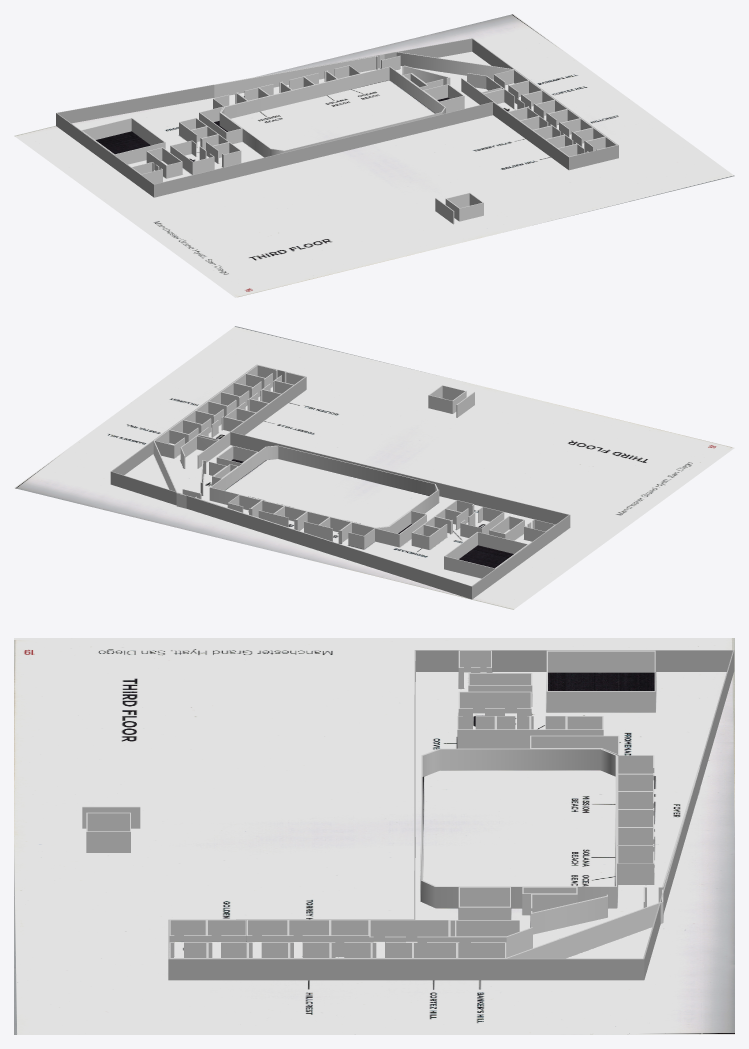
The model's file is ThirdLevel.fbx.
The picture shows the model from 3 angles, top to bottom: view 1: azimuth 30°, elevation 25°; view 2: azimuth 150°, elevation 25°; view 3: azimuth 270°, elevation 25°; orthographic projection. The views are drawn at different scales.
Visible parts, largest first — view 1: Plane, outline, room_blank, wall2, room_black4, wall1, room_elevator2, room_black3, room_base, room_unknown2_, room_escalator1, room_black2 (+3 smaller); view 2: Plane, outline, room_blank, room_black4, room_black3, room_unknown2_, room_elevator2, room_base, room_C3, room_unknown1, room_escalator1, room_A7 (+4 smaller); view 3: Plane, outline, room_blank, room_black4, wall1, room_bathroom1, room_unknown2_, room_elevator2, room_elevator1, room_base, room_black2, room_unknown3 (+18 smaller).
Part boxes in pixels (x1,y1,x2,y2): Plane: [14, 14, 734, 297]; outline: [56, 38, 618, 197]; room_blank: [221, 66, 445, 157]; wall2: [214, 56, 376, 97]; room_black4: [81, 118, 165, 164]; wall1: [395, 51, 513, 79]; room_elevator2: [170, 140, 214, 174]; room_black3: [199, 106, 242, 143]; room_base: [445, 192, 483, 221]; room_unknown2_: [461, 73, 504, 104]; room_escalator1: [146, 147, 182, 178]; room_black2: [423, 84, 464, 113]; Plane: [14, 326, 734, 609]; outline: [110, 364, 570, 599]; room_blank: [209, 445, 439, 528]; room_black4: [444, 532, 528, 578]; room_black3: [375, 510, 426, 547]; room_unknown2_: [180, 434, 219, 468]; room_elevator2: [460, 506, 504, 537]; room_base: [428, 385, 466, 413]; room_C3: [340, 522, 375, 549]; room_unknown1: [154, 429, 189, 458]; room_escalator1: [489, 516, 524, 540]; room_A7: [411, 524, 440, 549]; Plane: [14, 638, 734, 1034]; outline: [168, 650, 734, 980]; room_blank: [421, 748, 616, 908]; room_black4: [546, 650, 655, 712]; wall1: [506, 902, 663, 958]; room_bathroom1: [531, 894, 607, 934]; room_unknown2_: [449, 920, 532, 957]; room_elevator2: [458, 691, 531, 729]; room_elevator1: [369, 920, 449, 957]; room_base: [86, 812, 130, 852]; room_black2: [458, 887, 510, 919]; room_unknown3: [617, 845, 654, 884].
Bounding box in the file's own units: 3229 × 80.07 × 2479.
Materials: 2 (1 with a texture image).
